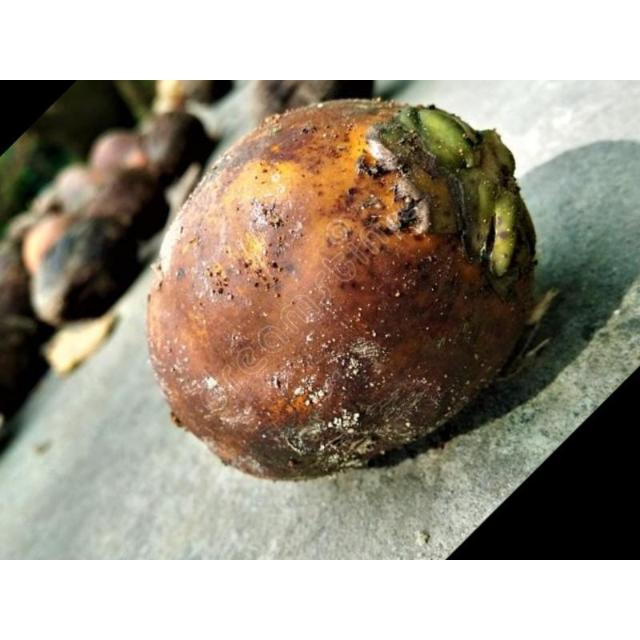damaged: (145, 99, 548, 484)
